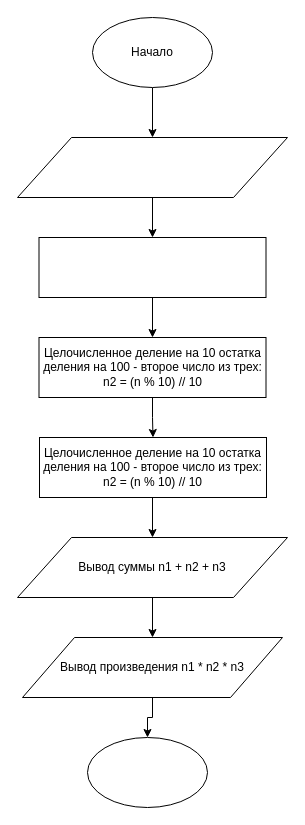
Some shapes in this 305 by 825 pixel diagram are drawn without their labels. Each missing label, with the centre of its shape:
"Ввод целого трехзначного числа n" belongs at pixel 152 167.
"Конец" belongs at pixel 147 772.
"Целочисленное деление на 100 - первое число из трех: n1 = n // 100" belongs at pixel 152 267.
